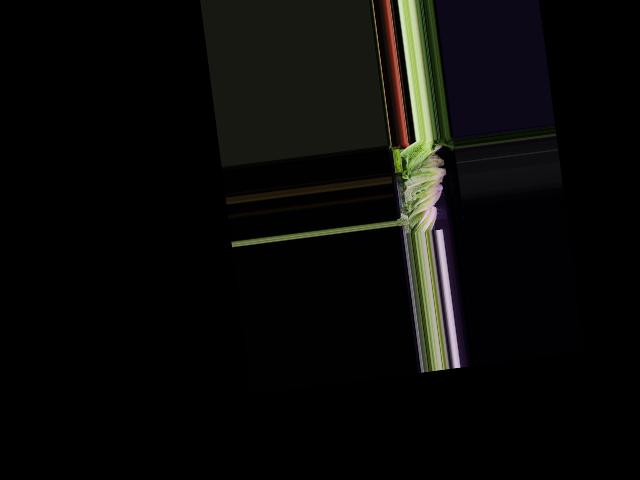lettuce: (408, 203, 440, 234)
